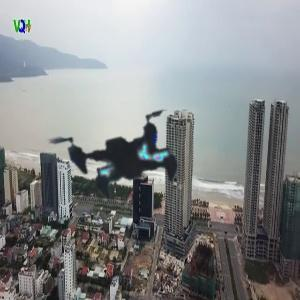drone: (22, 54, 231, 263)
